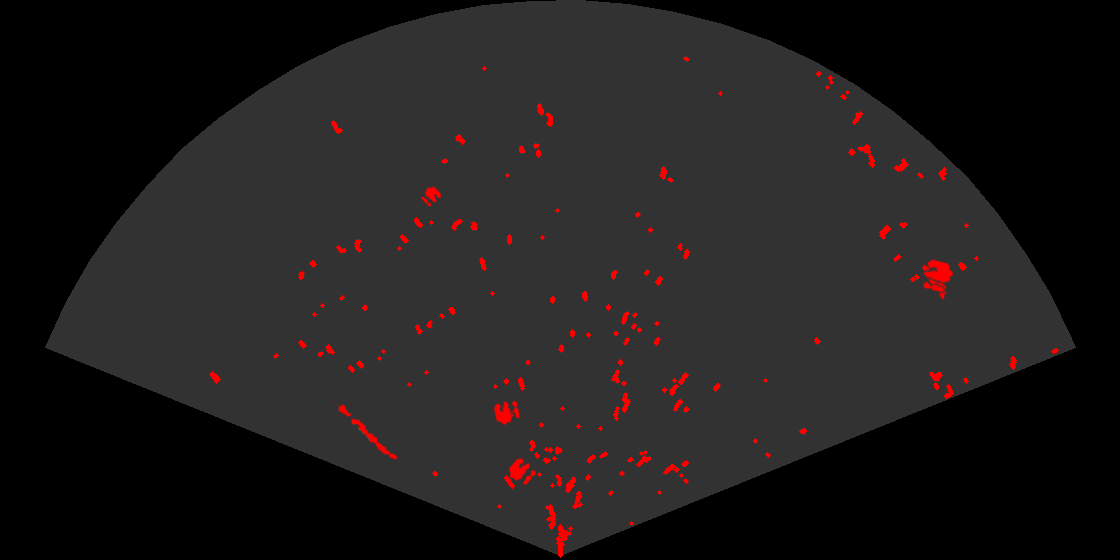AUV: (927, 271, 949, 301)
ball: (921, 258, 955, 294), (507, 457, 538, 486), (492, 399, 521, 426), (419, 185, 443, 208)
chain: (330, 399, 399, 461)
